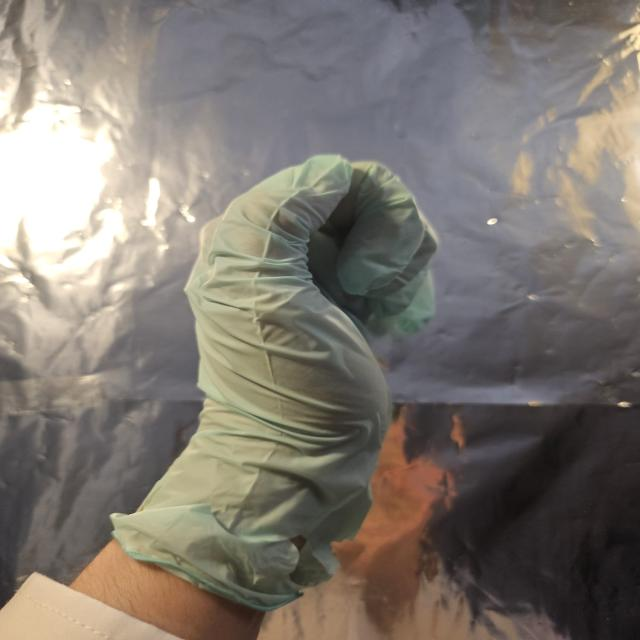gloves_damaged: (109, 154, 439, 608)
